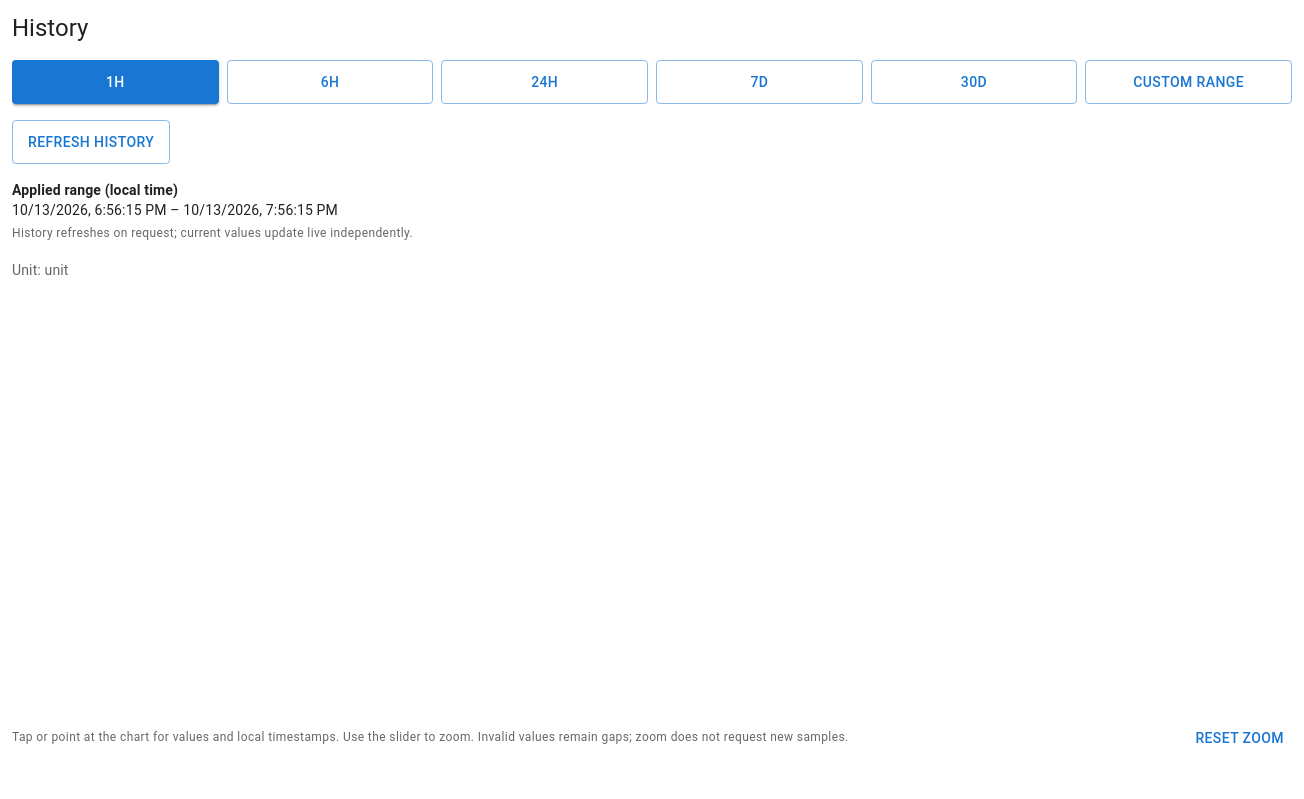
history UI › changes preset ranges and validates custom local dates
Step 1. Click the button named "Last 7 days" → (759, 82), box [656,60,863,104]
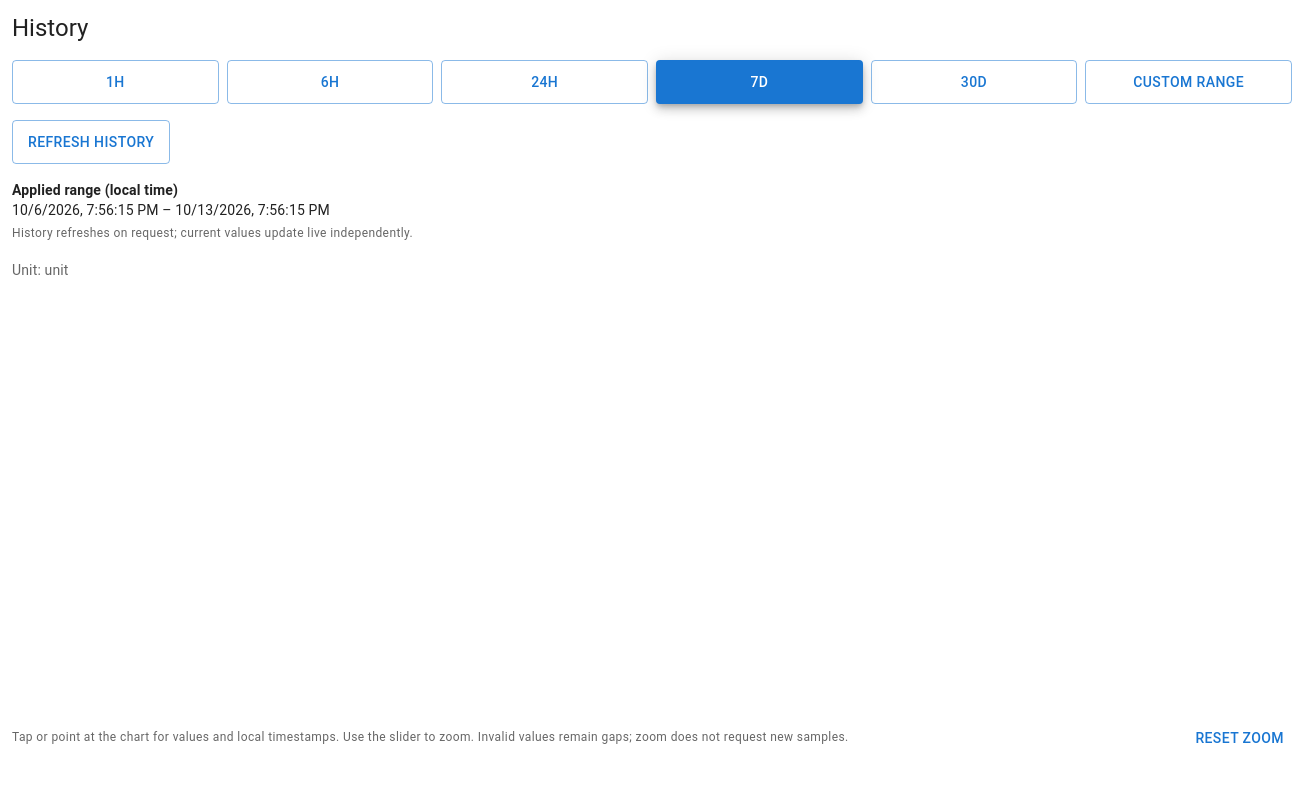
Step 2. Click the button "Custom range" → (1189, 82), box [1085,60,1292,104]
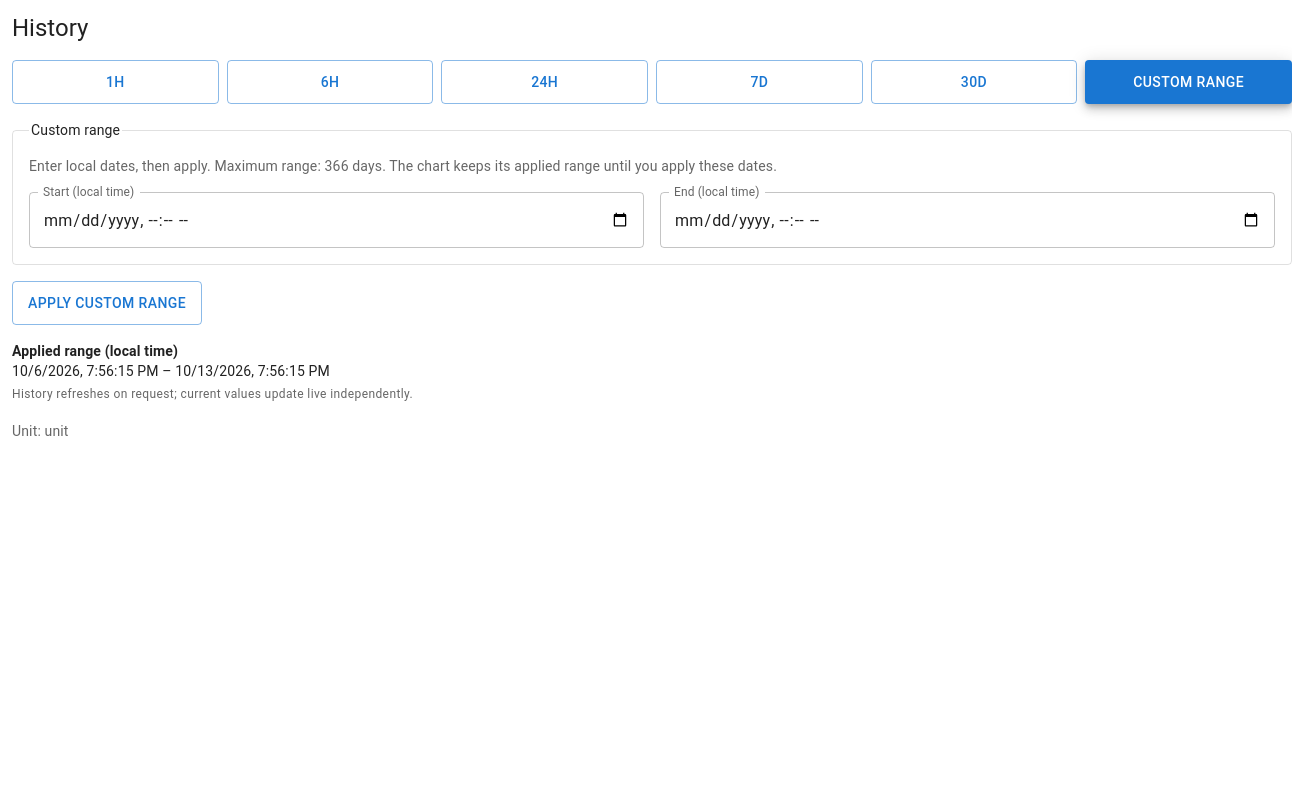
Step 3. Click the button "Apply custom range" → (107, 303), box [12,281,202,325]
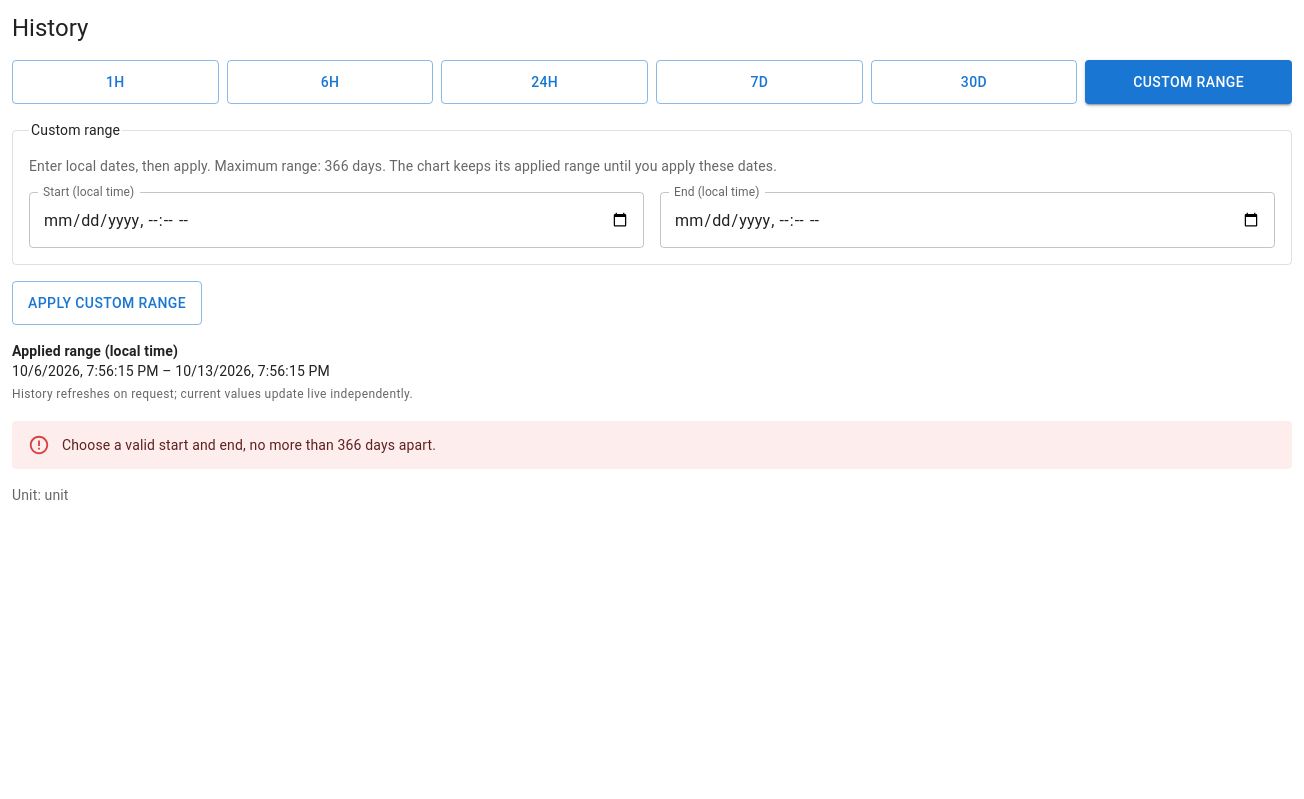
Expected: the text "Choose a valid start and end, no more than 366 days apart." is shown, [62,437,436,453]
